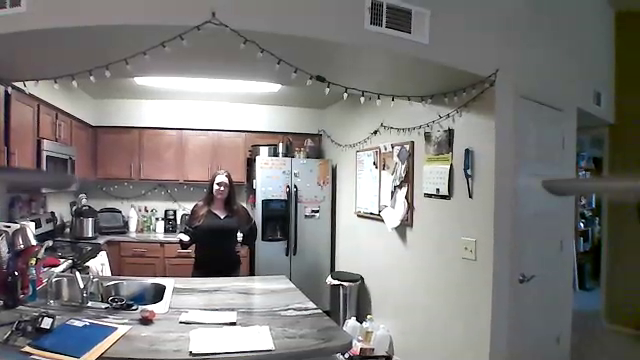land: (172, 230, 193, 246)
